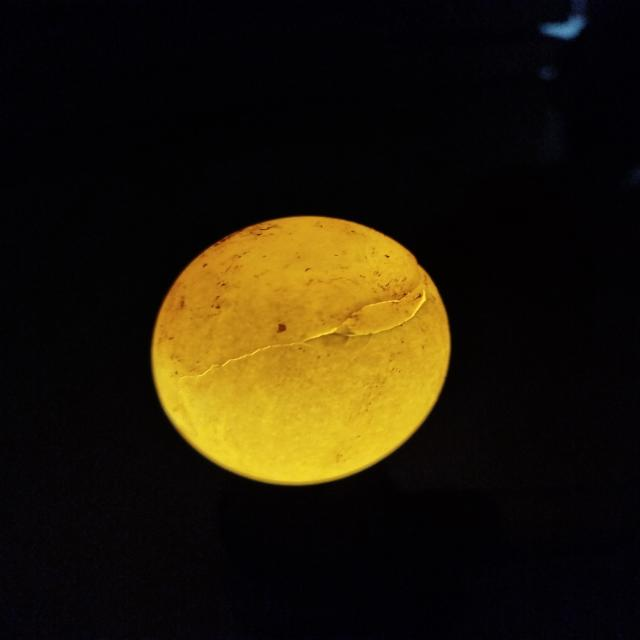Rachadura: (174, 257, 430, 398)
